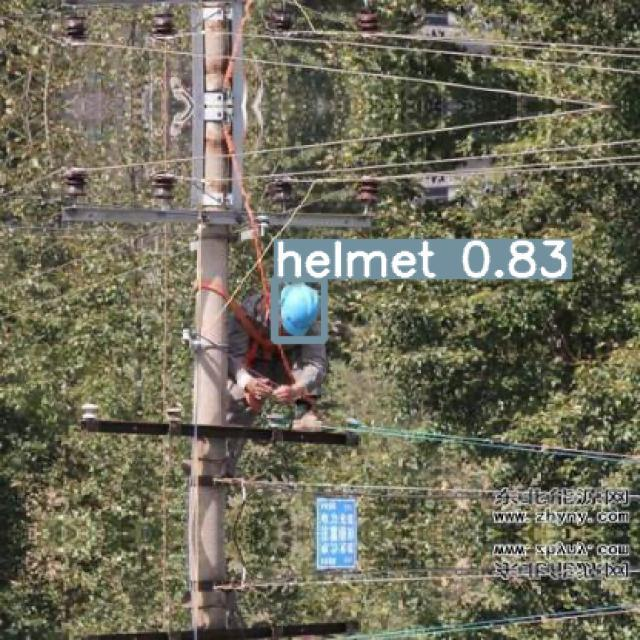blue helmet: (280, 283, 323, 337)
